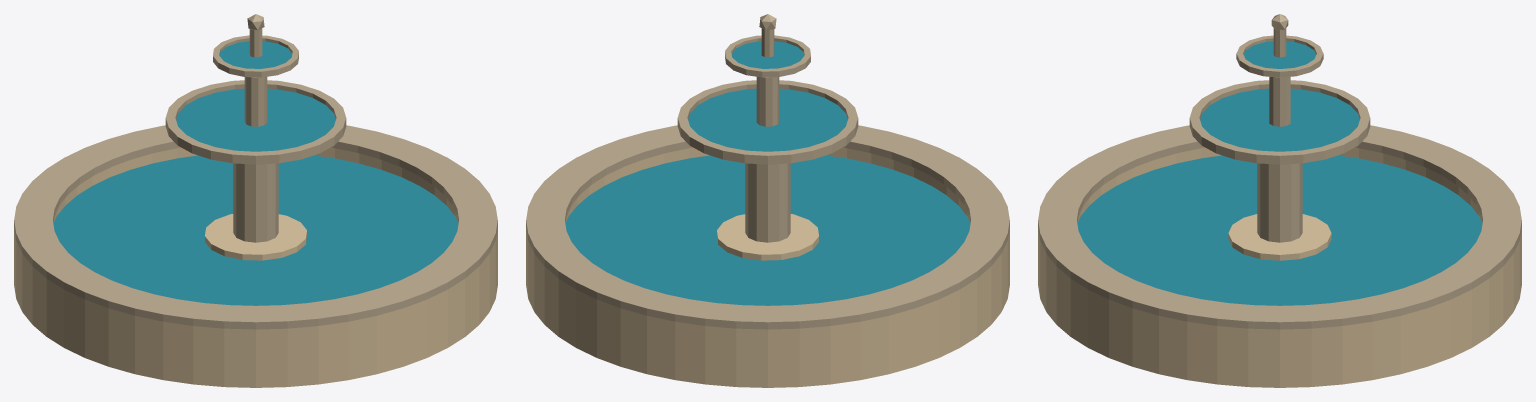
The model's file is fountain.glb.
3 views of the same model, side by side, from view 1: azimuth 30°, elevation 25°; view 2: azimuth 150°, elevation 25°; view 3: azimuth 270°, elevation 25° (orthographic).
Parts seen in each view (by area): view 1: body, water; view 2: body, water; view 3: body, water.
Part boxes in pixels (bbox=[...]): body: bbox=[14, 14, 497, 387]; water: bbox=[53, 41, 458, 305]; body: bbox=[526, 14, 1009, 387]; water: bbox=[565, 41, 970, 305]; body: bbox=[1038, 14, 1521, 387]; water: bbox=[1077, 41, 1482, 305].
Bounding box in the file's own units: 3 × 1.86 × 3.
